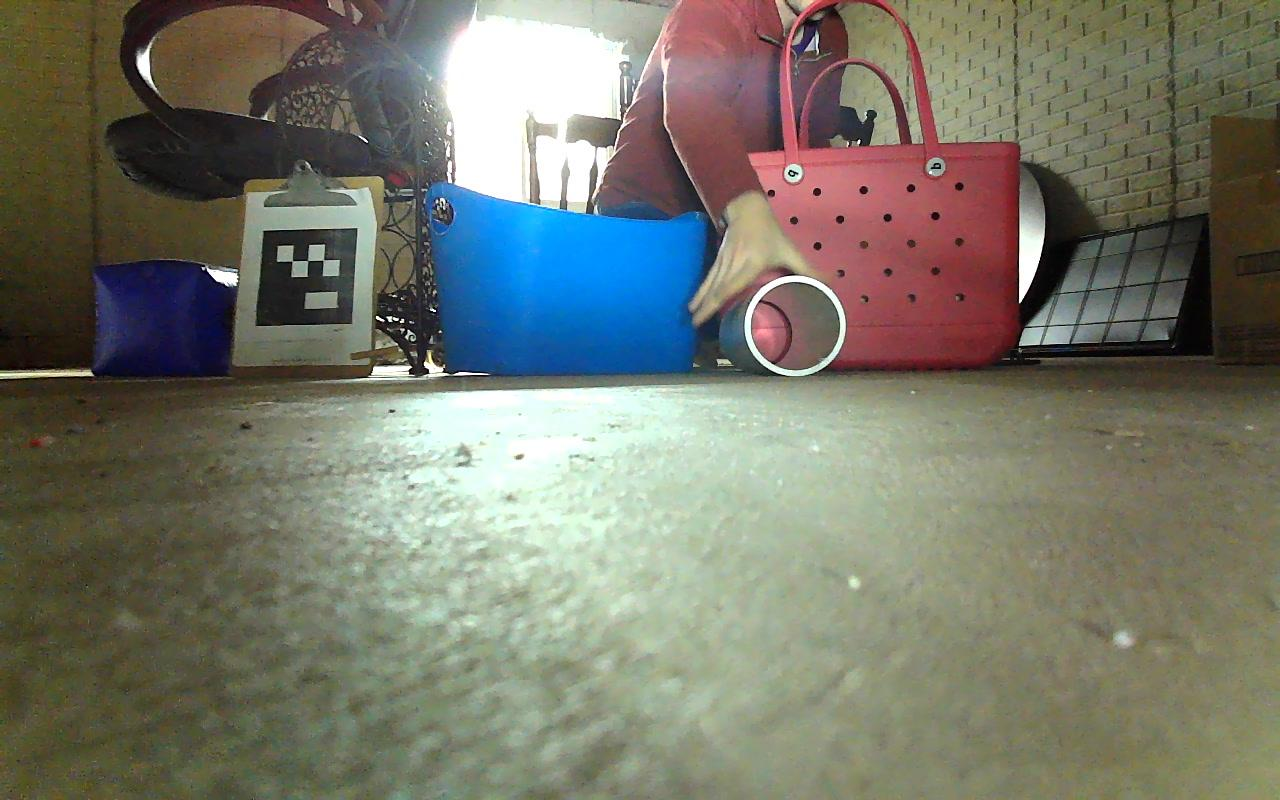coral: (728, 275, 845, 375)
